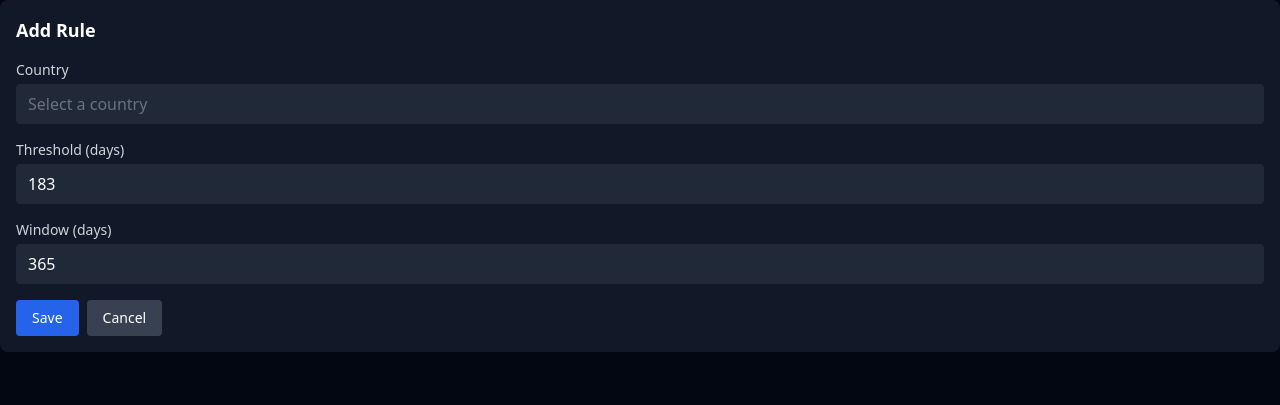
Test: RuleForm - Add Mode (no initialValues) › shows validation error when submitting without selecting a country
Click the button "Save".
click(47, 318)  # box [16, 300, 79, 336]
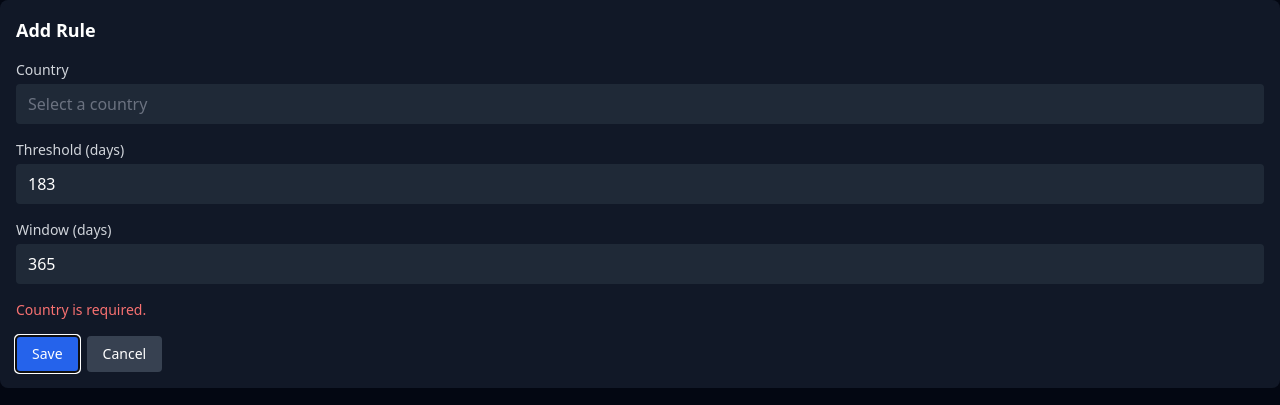
Check: the text "Country is required." is shown, box [16, 300, 146, 319]
